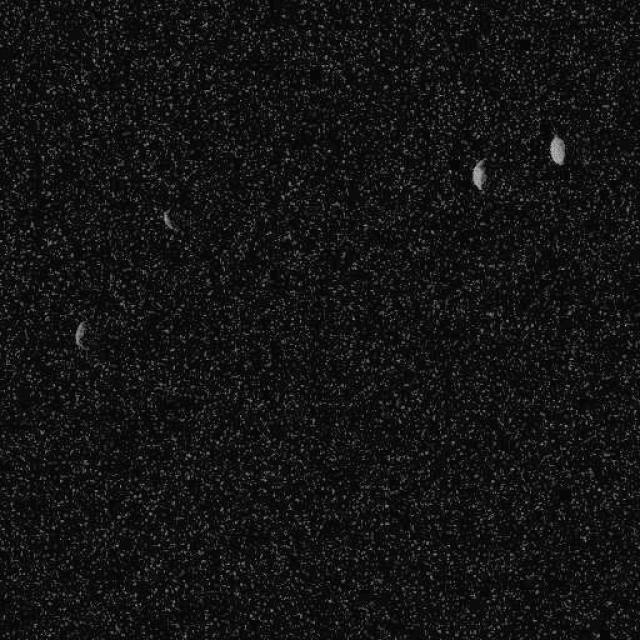D2: (470, 158, 488, 192), (547, 133, 565, 165), (74, 319, 88, 350), (160, 208, 178, 232)
